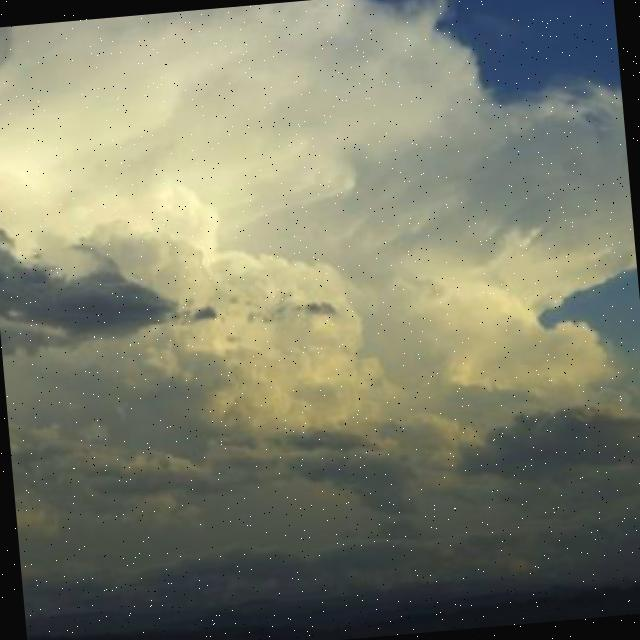Cb: (1, 1, 640, 522)
